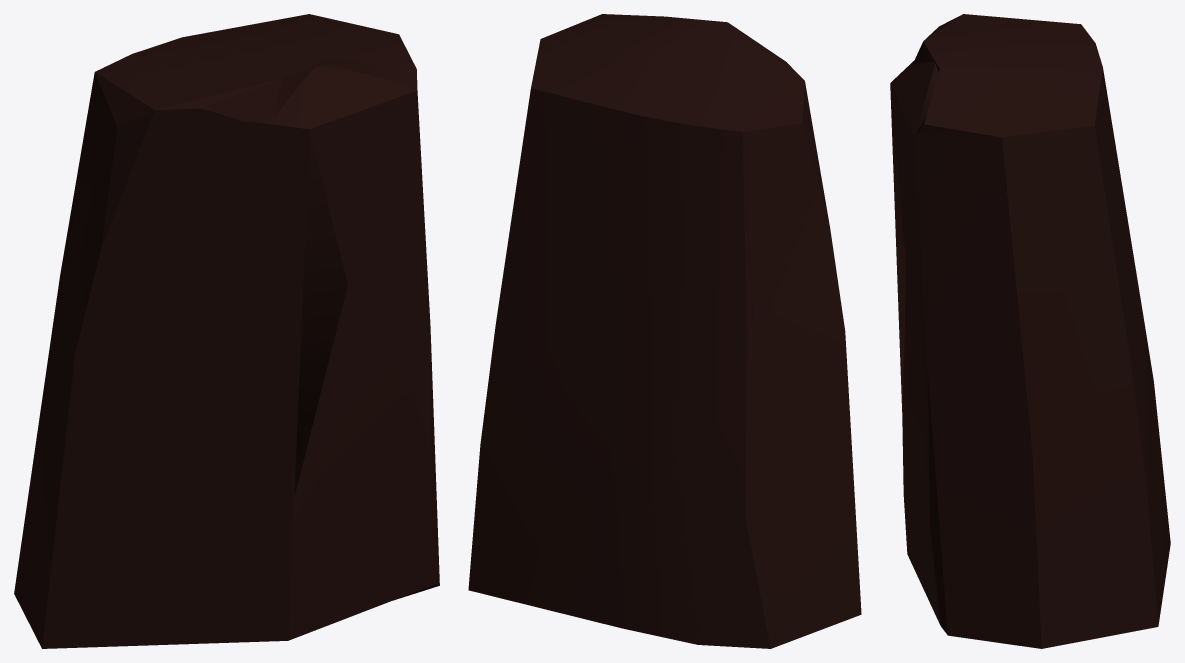
File: SM_Rock_05.fbx
3 renders of one model, left to right at view 1: azimuth 30°, elevation 25°; view 2: azimuth 150°, elevation 25°; view 3: azimuth 270°, elevation 25°, orthographic. The views are drawn at different scales.
Visible parts, largest first — view 1: SM_Rock_05, SM_Rock_05_col; view 2: SM_Rock_05; view 3: SM_Rock_05, SM_Rock_05_col.
Part boxes in pixels (x1,y1,x2,y2): SM_Rock_05: (14, 14, 439, 648); SM_Rock_05_col: (64, 65, 416, 496); SM_Rock_05: (468, 14, 861, 648); SM_Rock_05: (890, 14, 1170, 648); SM_Rock_05_col: (890, 61, 938, 421).
Size of the model in its own units: 231 by 311 by 153.
